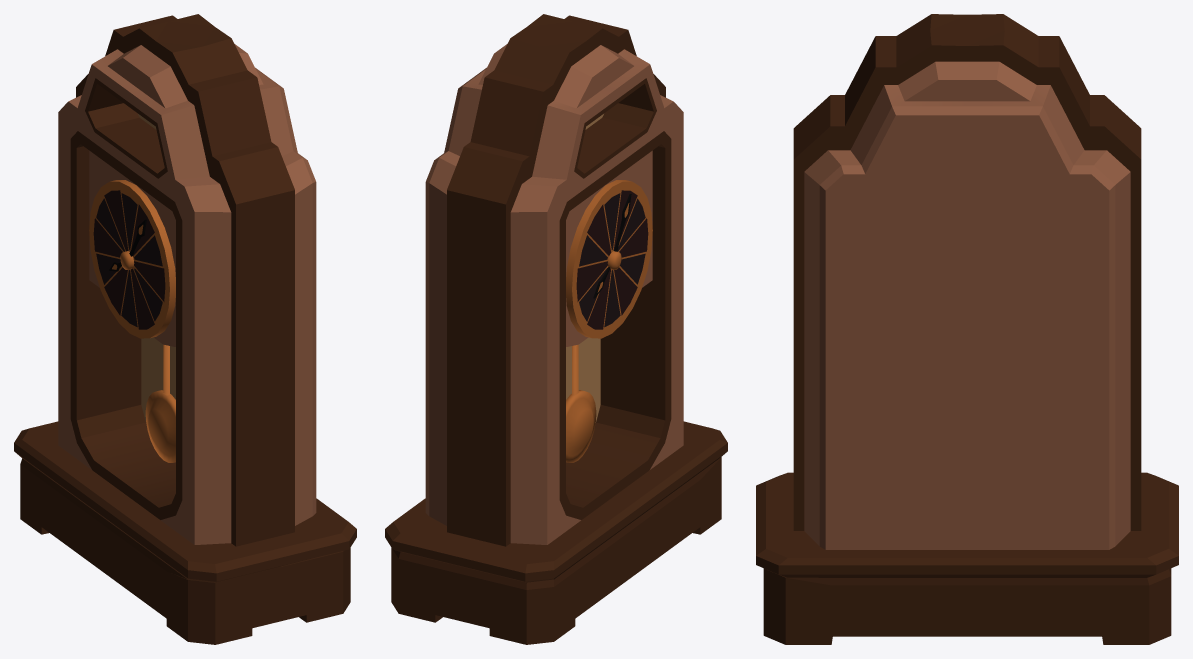
File: TableClock.fbx
3 views of the same model, side by side, from view 1: azimuth 30°, elevation 25°; view 2: azimuth 150°, elevation 25°; view 3: azimuth 270°, elevation 25° (orthographic). The views are drawn at different scales.
Visible parts, largest first — view 1: Clock_Exterior, Cylinder002, Pendalo; view 2: Clock_Exterior, Cylinder002, Pendalo; view 3: Clock_Exterior.
Boxes of the visible parts, left/top/right/bottom form: Clock_Exterior: left=14, top=14, right=356, bottom=644; Cylinder002: left=89, top=180, right=175, bottom=338; Pendalo: left=145, top=344, right=175, bottom=462; Clock_Exterior: left=385, top=14, right=727, bottom=644; Cylinder002: left=566, top=180, right=652, bottom=338; Pendalo: left=566, top=344, right=596, bottom=462; Clock_Exterior: left=756, top=14, right=1178, bottom=644.
Bounding box in the file's own units: 29.06 × 86.66 × 58.06.
